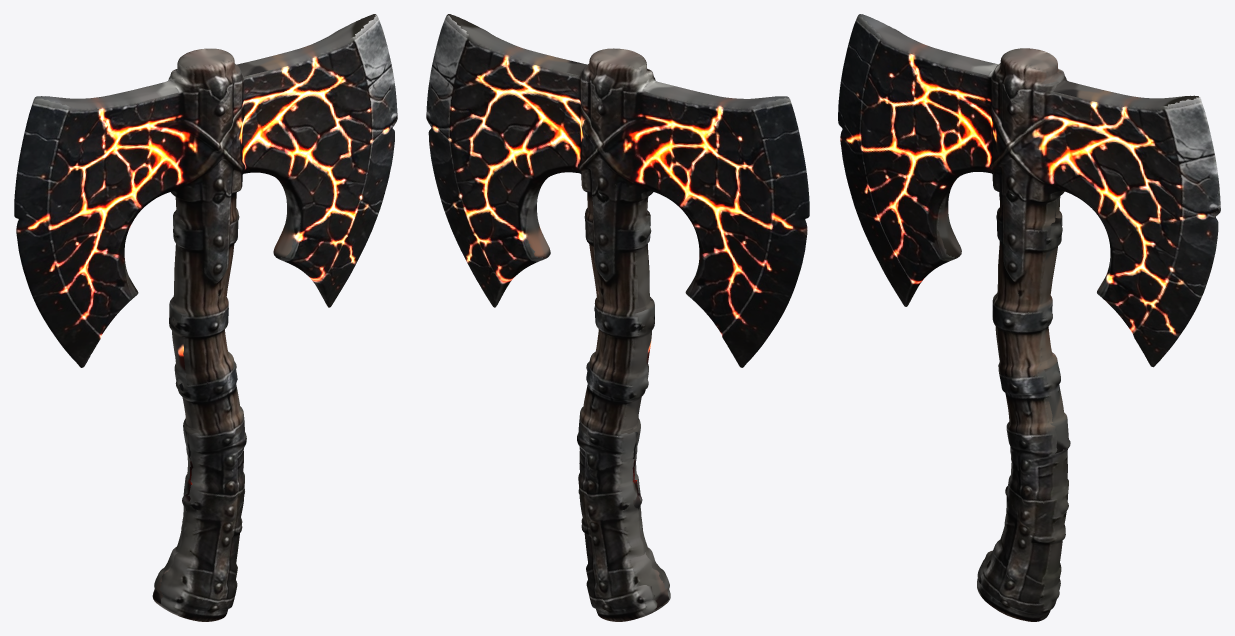
The model's file is magma_battleaxe.glb.
3 views of the same model, side by side, from view 1: azimuth 30°, elevation 25°; view 2: azimuth 150°, elevation 25°; view 3: azimuth 330°, elevation 25° (orthographic).
Visible parts, largest first — view 1: geometry_0; view 2: geometry_0; view 3: geometry_0.
Boxes of the visible parts, <box> form: geometry_0: <box>14,14,397,621</box>; geometry_0: <box>426,14,809,621</box>; geometry_0: <box>838,14,1220,621</box>.
Size of the model in its own units: 0.9852 by 1.38 by 0.1666.
Materials: 1 (1 with a texture image).
